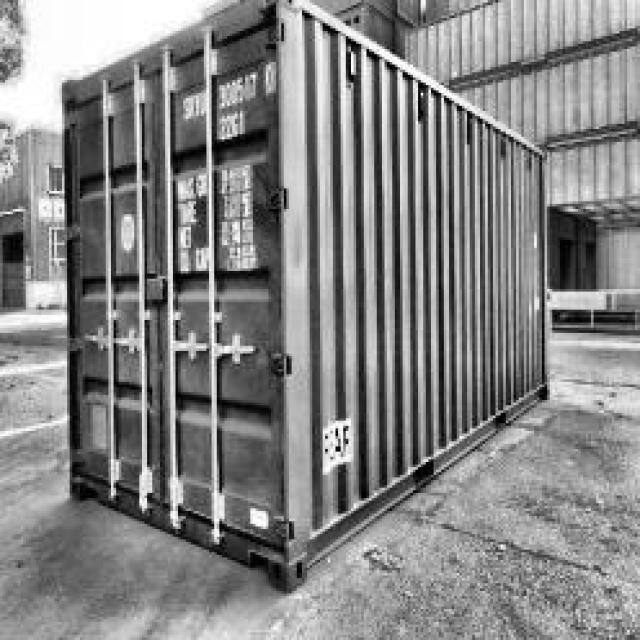ISO: (206, 110, 248, 142)
container_number: (179, 68, 288, 120)
